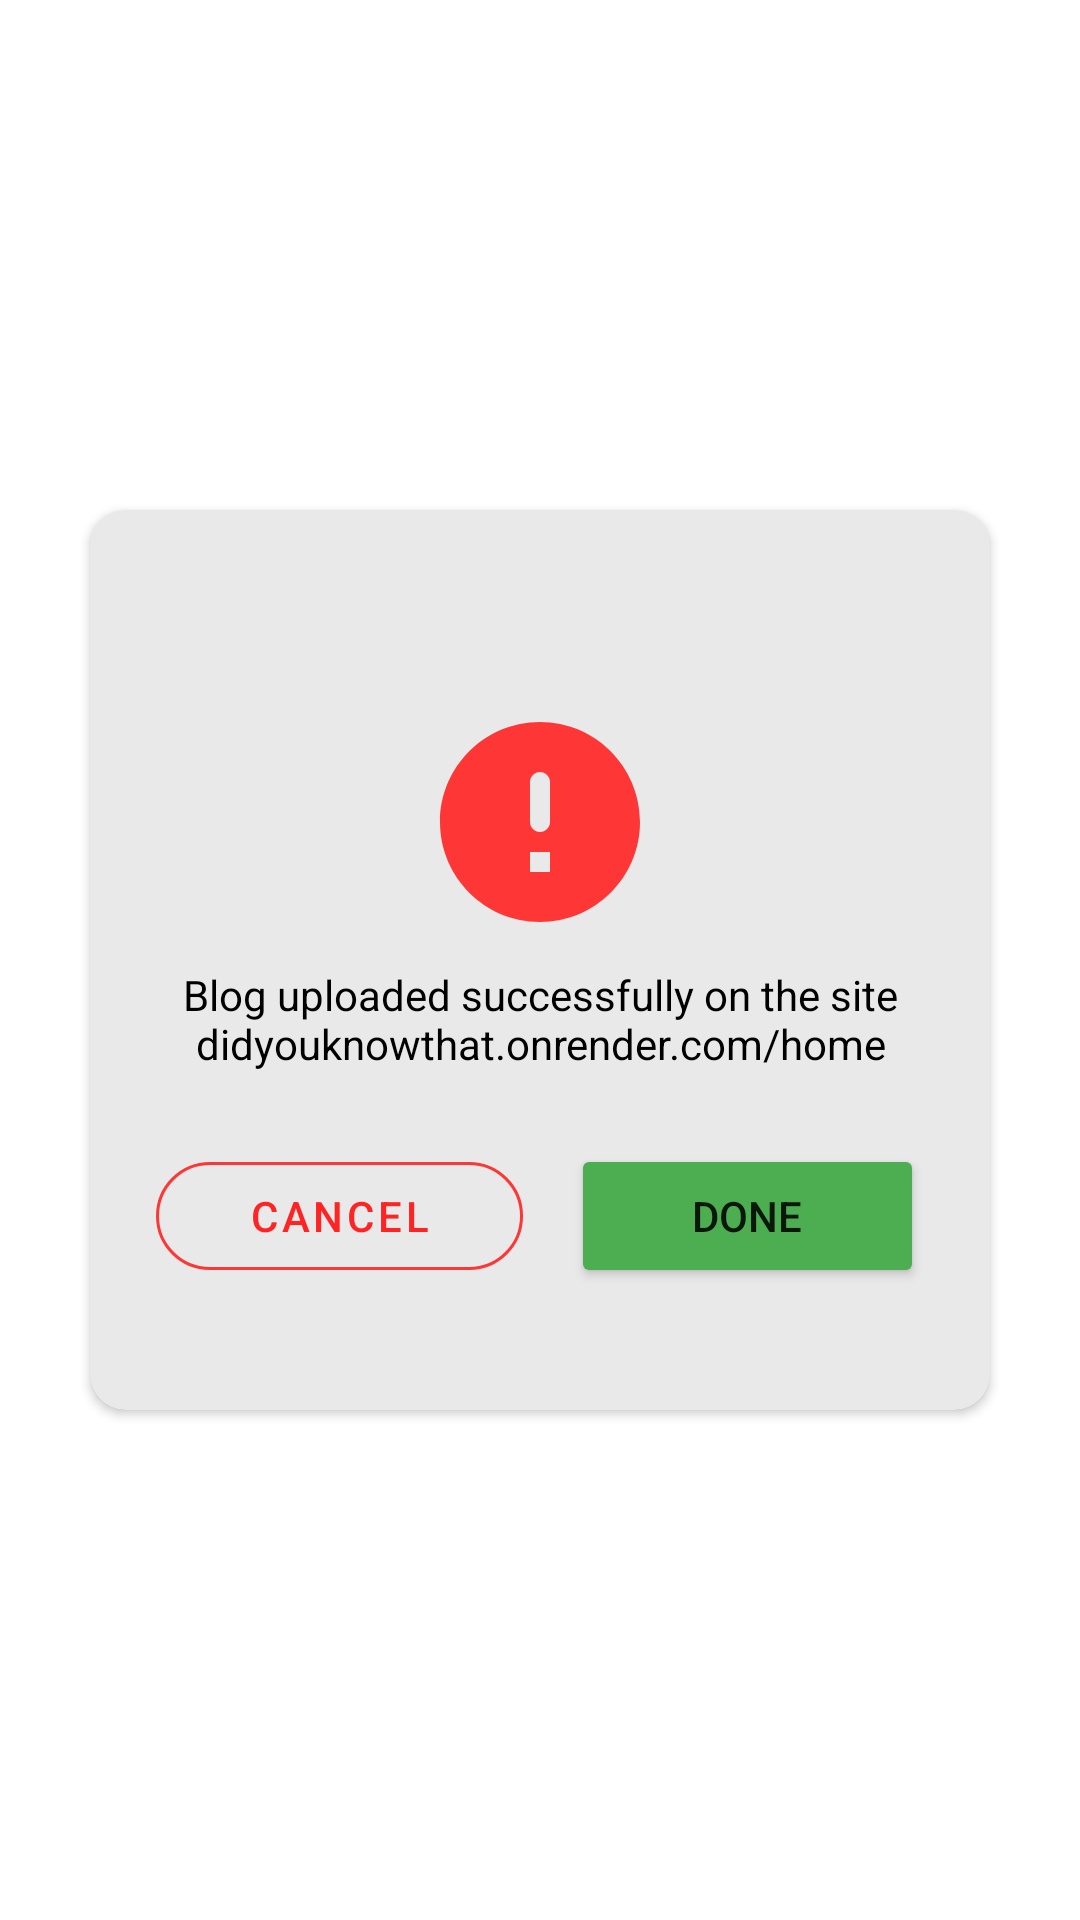

Named icons in this screenshot (1080×1920) and their centers, (x,y):
error round: (540,822)
